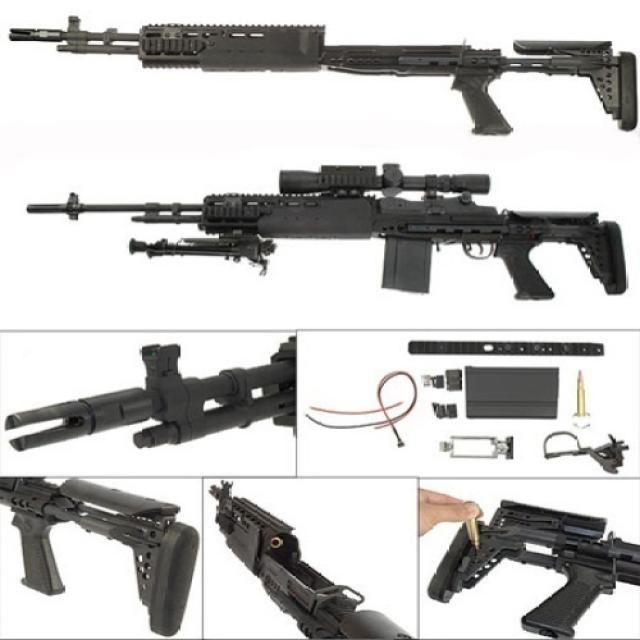Gun: (0, 2, 640, 184), (0, 146, 640, 321)
